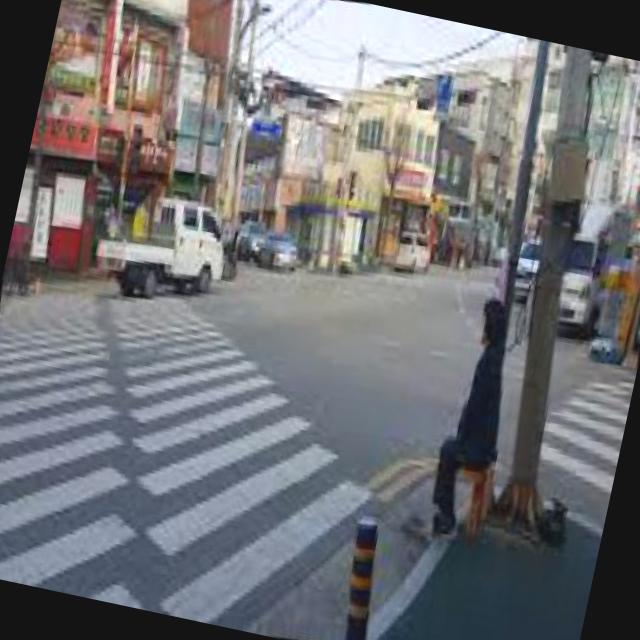Person: (401, 289, 532, 556)
